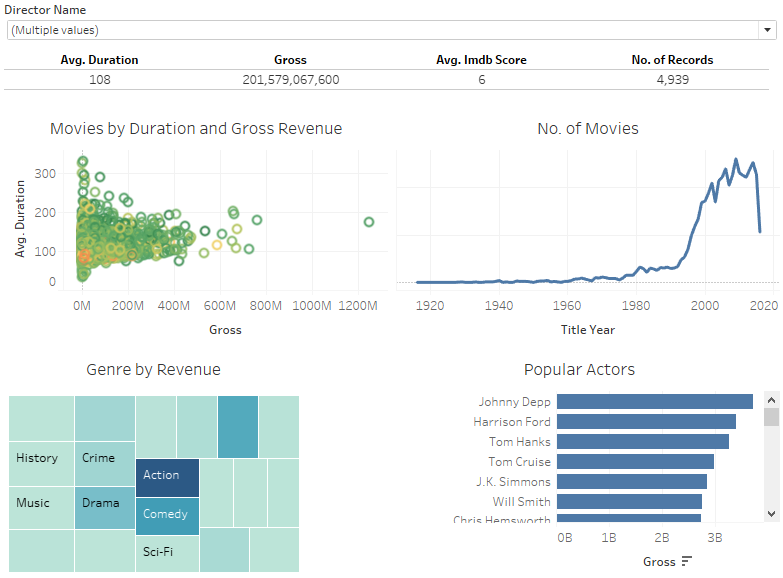

Layout of this report page (visuals, bound fields, positions):
{"tool":"tableau","page":{"name":"Dashboard 1","canvas":[800,600],"ordinal":0},"visuals":[{"type":"worksheet","box":[0,0,800,600]},{"type":"worksheet","box":[8,8,784,48]},{"type":"worksheet","title":"Sheet 1","mark":"Automatic","param":"[federated.198ke3x1q7torj106s2460m0wbqz].[none:director_name:nk]","box":[8,8,784,48]},{"type":"worksheet","param":"horz","box":[8,56,784,536]},{"type":"worksheet","box":[8,56,784,536]},{"type":"worksheet","title":"Sheet 1","mark":"Automatic","box":[8,56,784,63]},{"type":"worksheet","title":"Sheet 2","mark":"Automatic","rows":["duration"],"cols":["gross"],"box":[8,119,392,240.5]},{"type":"worksheet","title":"Sheet 3","mark":"Automatic","rows":["movie_metadata.csv_A971D718D52F4FDFB4D3502F7ACB7B01"],"cols":["title_year"],"box":[400,119,392,240.5]},{"type":"worksheet","title":"Sheet 4","mark":"Automatic","box":[8,359.5,392,232.5]},{"type":"worksheet","title":"Sheet 5","mark":"Automatic","rows":["actor_1_name"],"cols":["gross"],"box":[400,359.5,392,232.5]}]}

Visuals, with their boxes in screenshot pixels (x1, y1, x2, y2), scaled from the page's 800x600 canvas onto the 783x578 screenshot:
worksheet: detection(0, 0, 782, 577)
worksheet: detection(8, 8, 775, 54)
"Sheet 1" worksheet: detection(8, 8, 775, 54)
worksheet: detection(8, 54, 775, 570)
worksheet: detection(8, 54, 775, 570)
"Sheet 1" worksheet: detection(8, 54, 775, 115)
"Sheet 2" worksheet: detection(8, 115, 392, 346)
"Sheet 3" worksheet: detection(392, 115, 775, 346)
"Sheet 4" worksheet: detection(8, 346, 392, 570)
"Sheet 5" worksheet: detection(392, 346, 775, 570)
